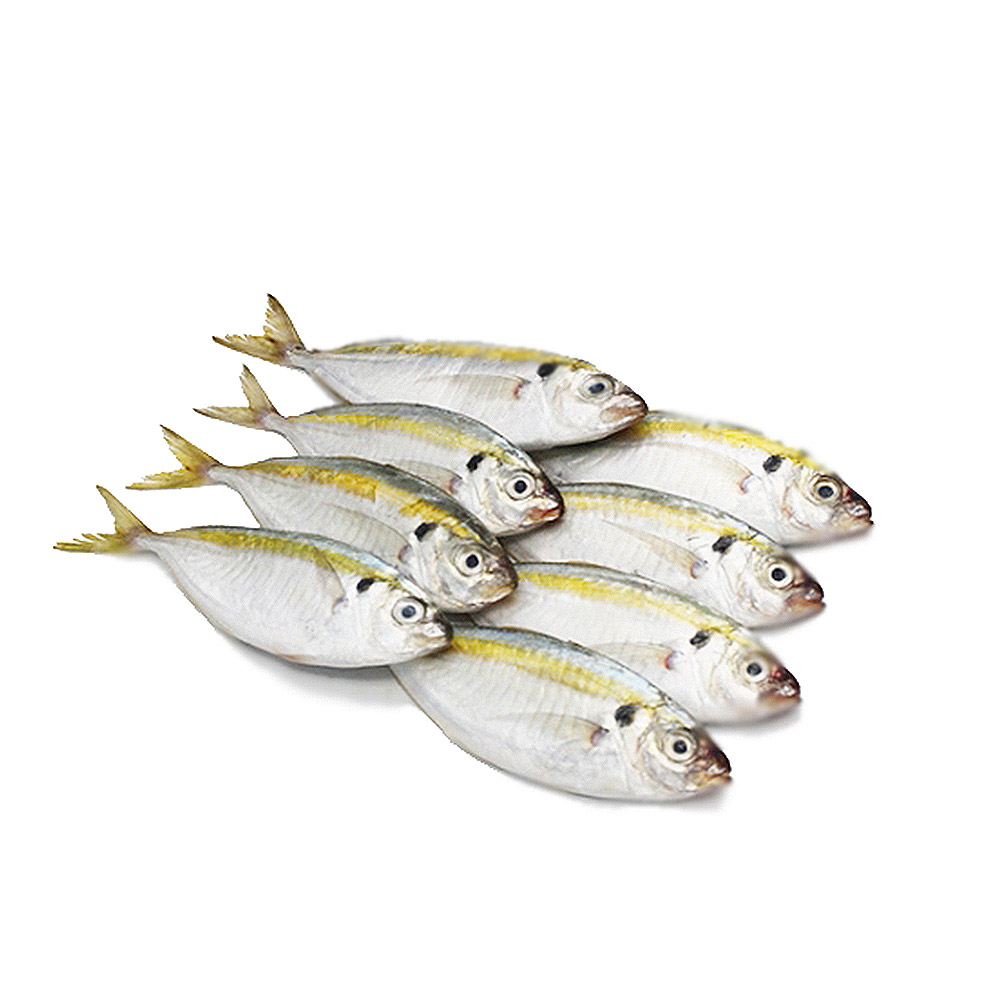Ikan Selar: (377, 624, 732, 818), (146, 441, 511, 626), (61, 522, 465, 678), (210, 392, 579, 545), (498, 556, 803, 741), (243, 297, 649, 432), (614, 366, 893, 547), (556, 465, 834, 639)
